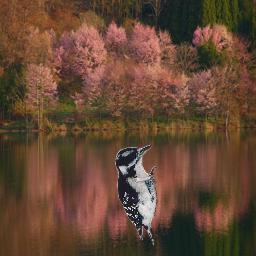Woodpecker: (115, 145, 159, 246)
